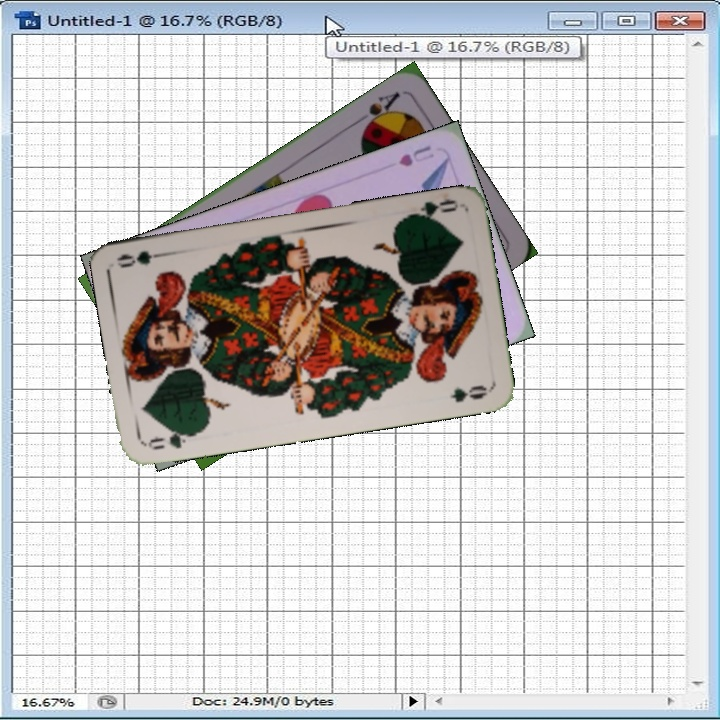GO: (402, 195, 460, 224), (143, 426, 202, 452)
HU: (394, 141, 437, 169)
SA: (358, 88, 403, 134)
